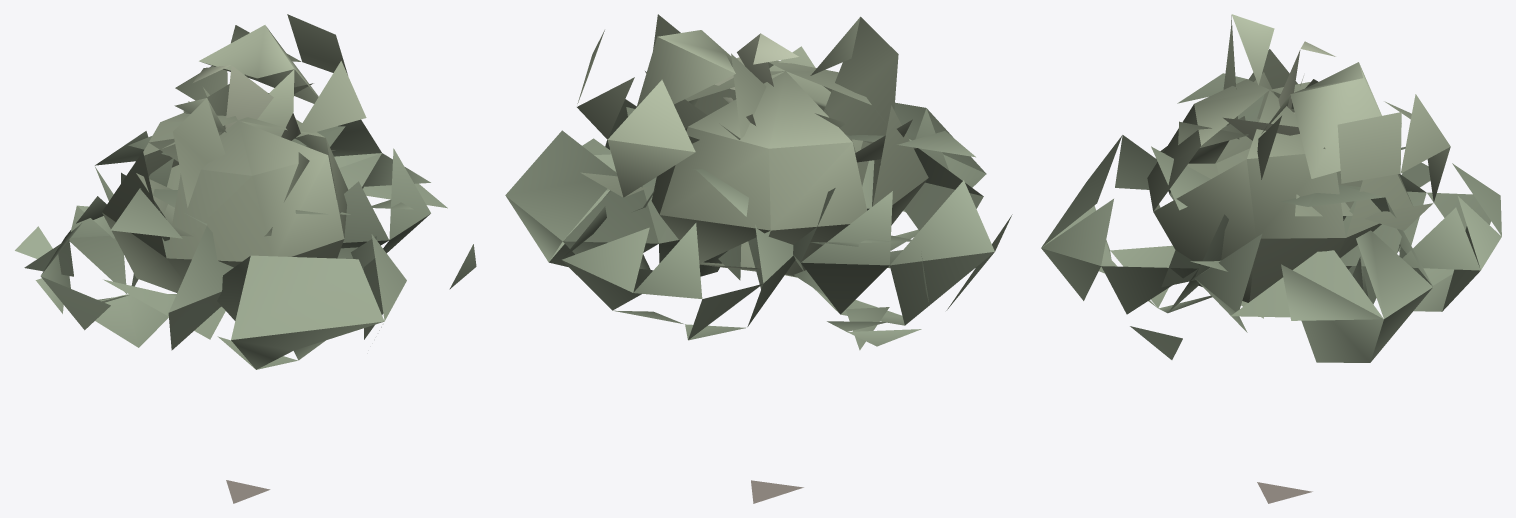
File: tree.lod.glb
The picture shows the model from 3 angles, left to right: view 1: azimuth 30°, elevation 25°; view 2: azimuth 150°, elevation 25°; view 3: azimuth 270°, elevation 25°; orthographic projection. The views are drawn at different scales.
Parts seen in each view (by area): view 1: tree.001; view 2: tree.001; view 3: tree.001.
Part boxes in pixels (left/top/right/bottom): tree.001: left=15, top=14, right=476, bottom=503; tree.001: left=505, top=14, right=1012, bottom=503; tree.001: left=1041, top=14, right=1501, bottom=503.
Size of the model in its own units: 8.16 by 8.34 by 7.78.
